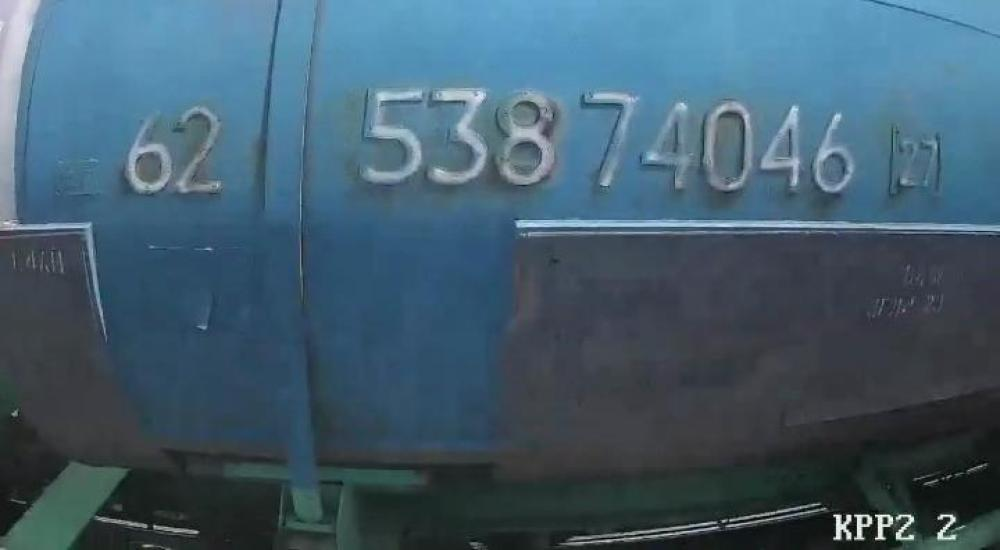Wagon-number: (352, 78, 860, 200)
